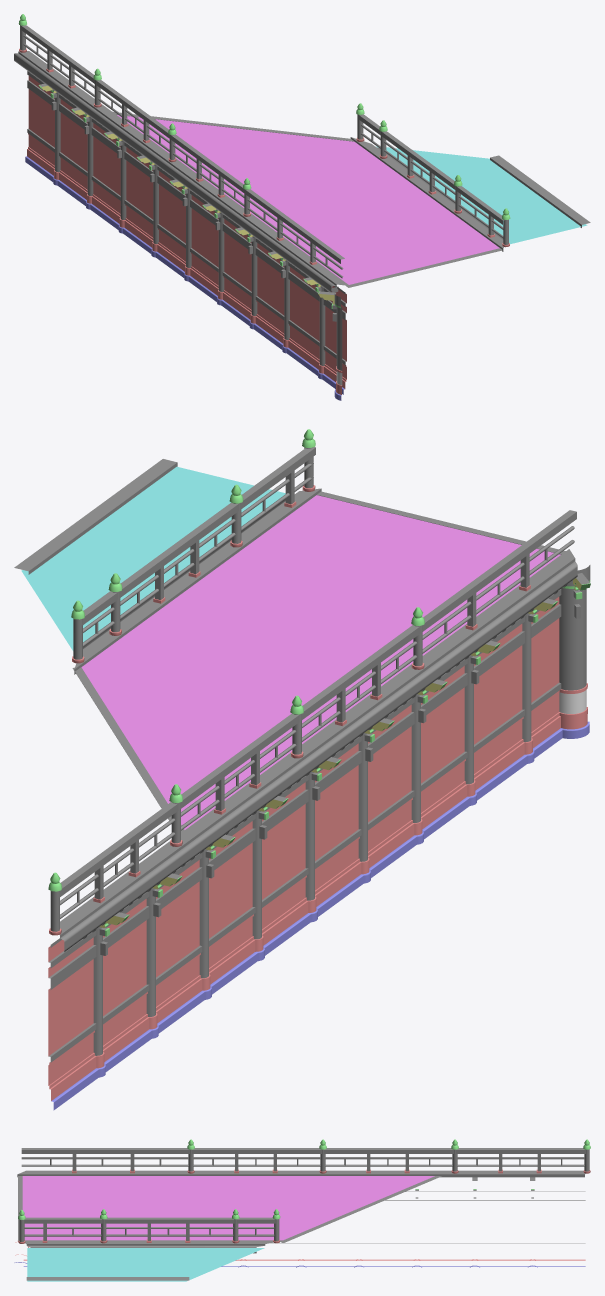
File: SM_ENV_KNVLLG03_Bridge_PlatformConnectorB.gltf
The picture shows the model from 3 angles, top to bottom: view 1: azimuth 30°, elevation 25°; view 2: azimuth 150°, elevation 25°; view 3: azimuth 270°, elevation 25°; orthographic projection. The views are drawn at different scales.
Parts seen in each view (by area): view 1: SM_ENV_KNVLLG03_Bridge_PlatformConnectorB; view 2: SM_ENV_KNVLLG03_Bridge_PlatformConnectorB; view 3: SM_ENV_KNVLLG03_Bridge_PlatformConnectorB.
Part boxes in pixels (<box>): SM_ENV_KNVLLG03_Bridge_PlatformConnectorB: <box>14,14,590,400</box>; SM_ENV_KNVLLG03_Bridge_PlatformConnectorB: <box>14,429,590,1110</box>; SM_ENV_KNVLLG03_Bridge_PlatformConnectorB: <box>14,1139,590,1281</box>.
Bounding box in the file's own units: 15.47 × 8.12 × 32.56.
